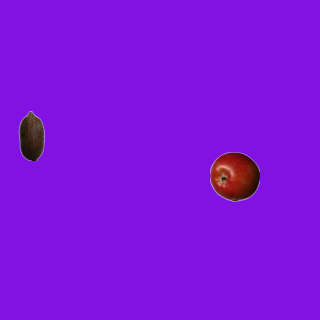Apple Braeburn: (209, 151, 259, 201)
Nut Pecan: (6, 110, 56, 160)
